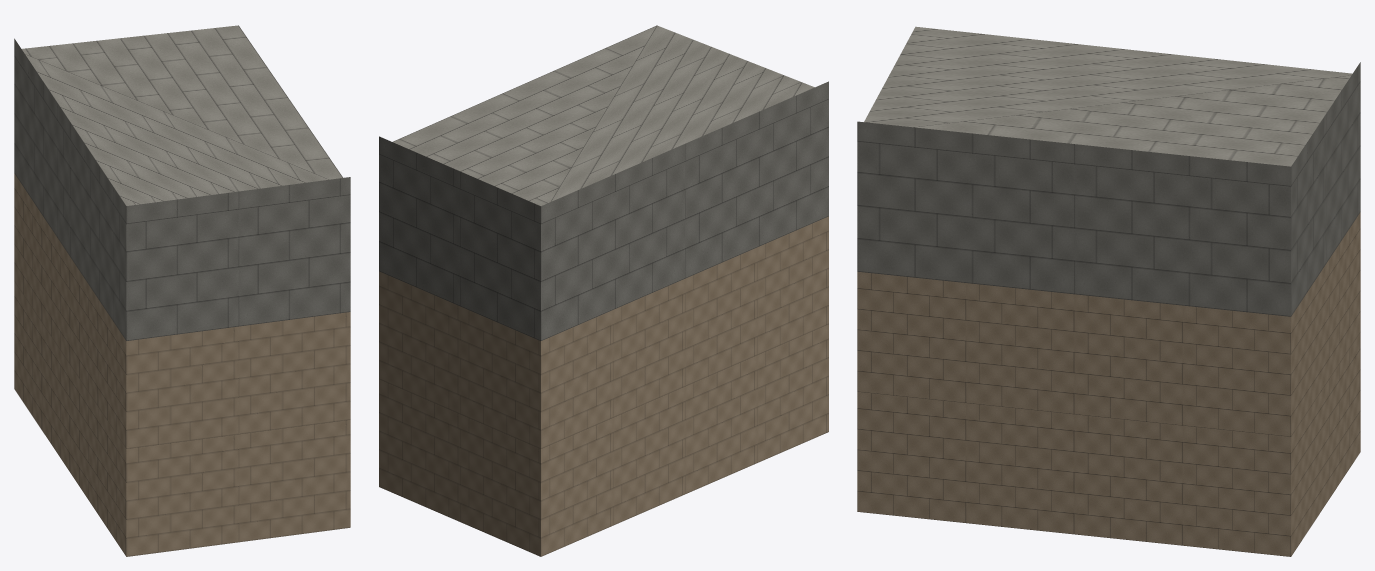
File: bld_c33_43_242.gltf
3 renders of one model, left to right at view 1: azimuth 30°, elevation 25°; view 2: azimuth 150°, elevation 25°; view 3: azimuth 270°, elevation 25°, orthographic. The views are drawn at different scales.
Parts seen in each view (by area): view 1: bld_c33_43_242; view 2: bld_c33_43_242; view 3: bld_c33_43_242.
Part boxes in pixels (x1,y1,x2,y2): bld_c33_43_242: (14, 25, 350, 556); bld_c33_43_242: (379, 25, 828, 556); bld_c33_43_242: (857, 26, 1360, 556).
Bounding box in the file's own units: 6.19 × 7.38 × 8.62.
Materials: 4 (4 with a texture image).
